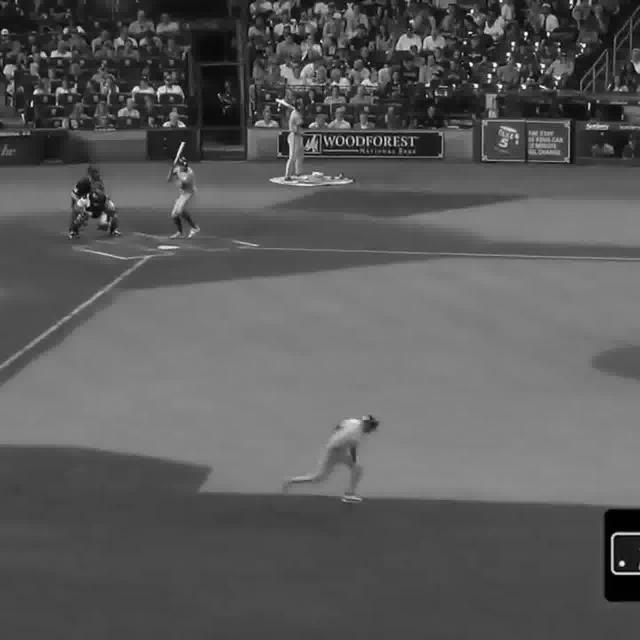base: (158, 242, 177, 251)
bat: (164, 137, 190, 184)
shoe: (188, 224, 199, 241), (340, 496, 362, 504), (285, 481, 292, 497), (171, 233, 182, 243), (110, 228, 122, 237), (67, 231, 78, 240)
